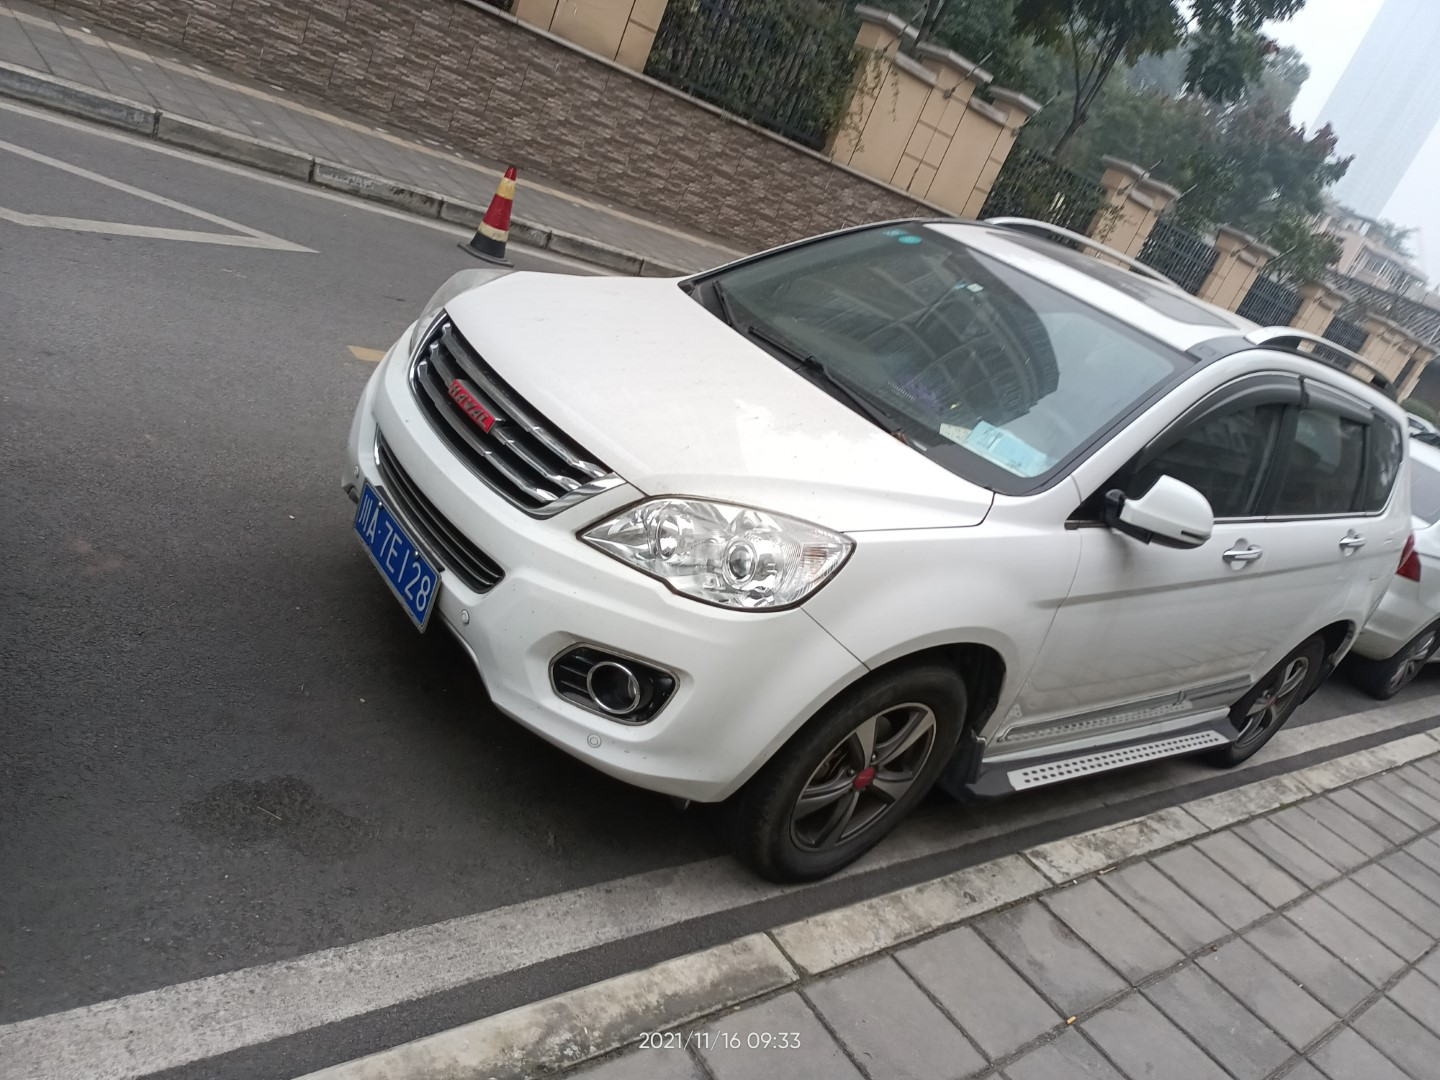plate: (351, 476, 441, 635)
